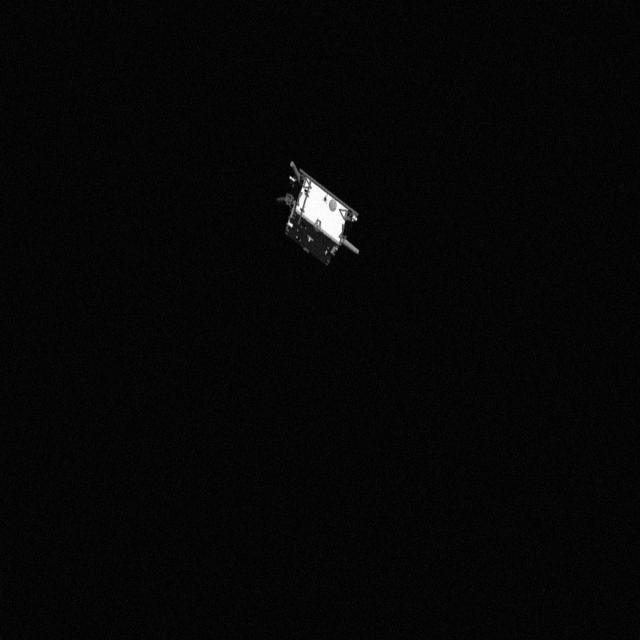medium_debris: (266, 158, 376, 272)
